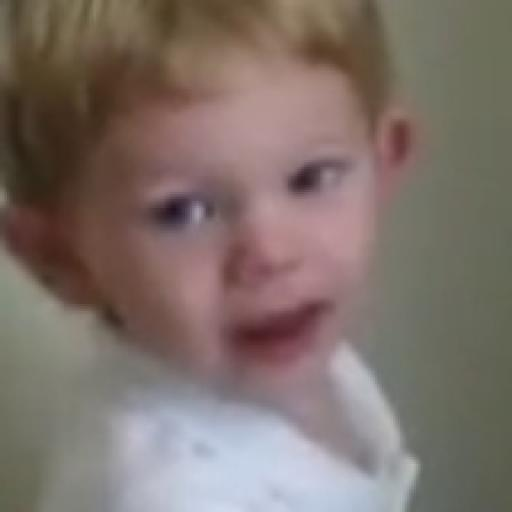Autism: (5, 8, 443, 403)
